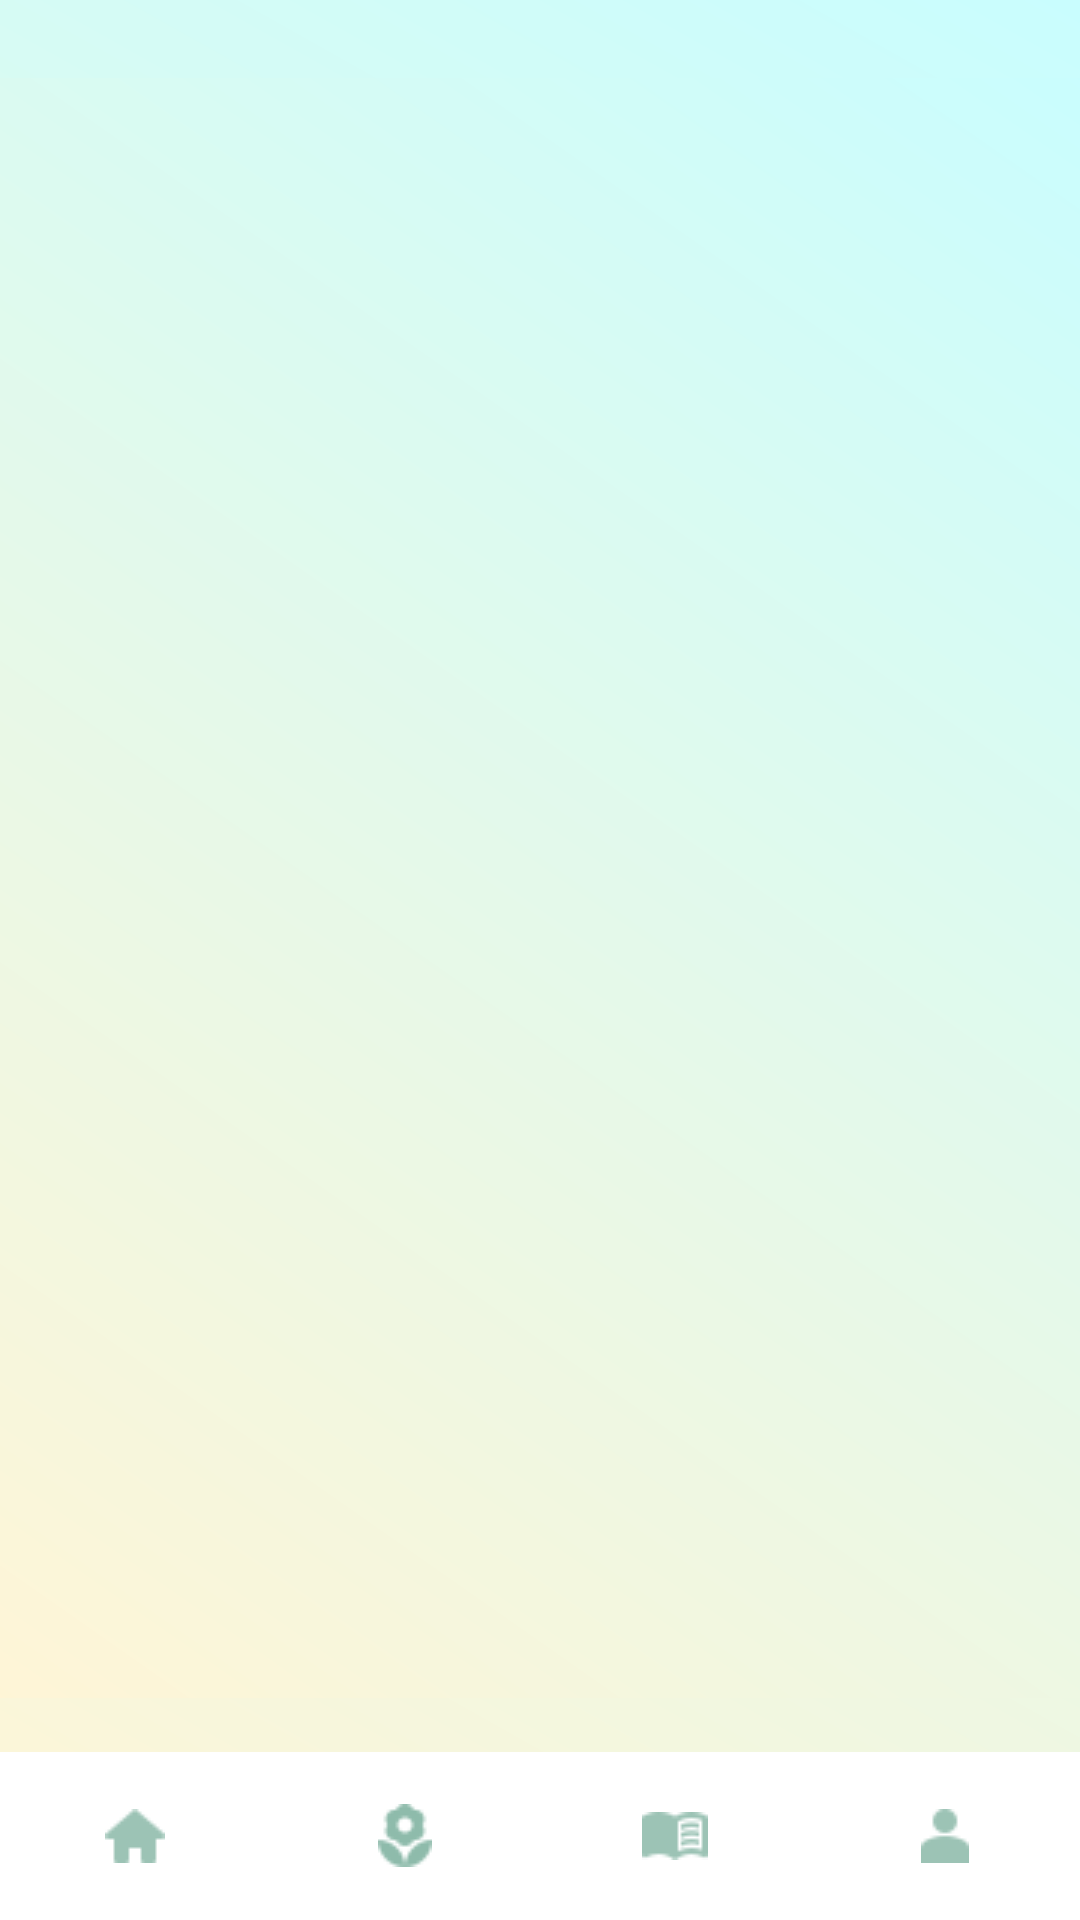

Locate icon controls on the screen. Image size 1080px x 1920px, boxes as (left=x1, top=y1, right=x2, bottom=y2).
Garden: (left=378, top=1804, right=432, bottom=1867)
Plantdex: (left=642, top=1812, right=708, bottom=1860)
Profile: (left=921, top=1809, right=969, bottom=1863)
